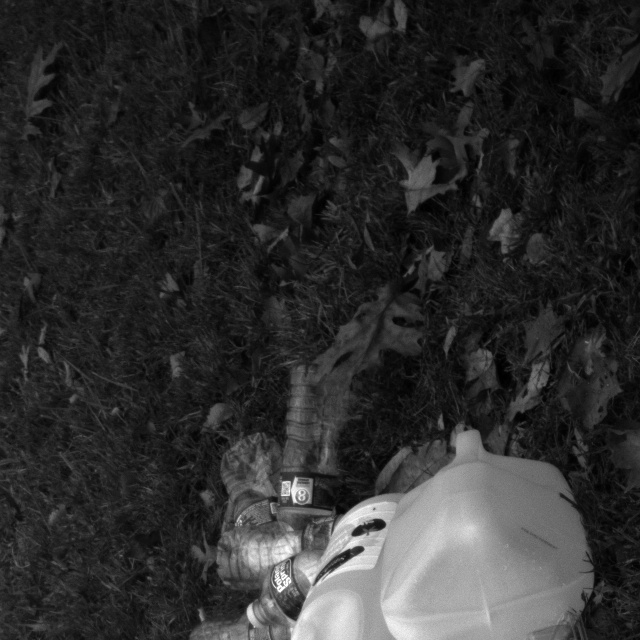bottle: (263, 357, 358, 569), (212, 427, 295, 592), (240, 534, 335, 632)
can: (379, 426, 598, 640), (283, 487, 442, 640)
